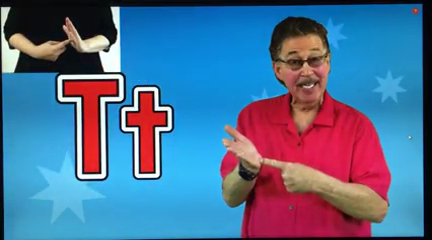T: (213, 120, 326, 204)
